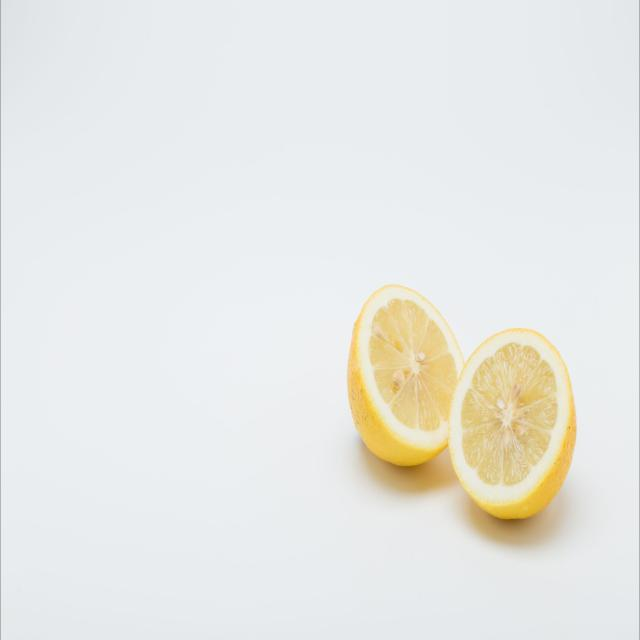lemon: (445, 323, 578, 524), (344, 275, 466, 476)
